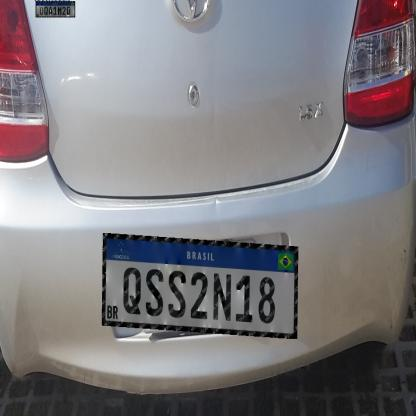PlacaM: (102, 233, 298, 339), (36, 1, 75, 18)
